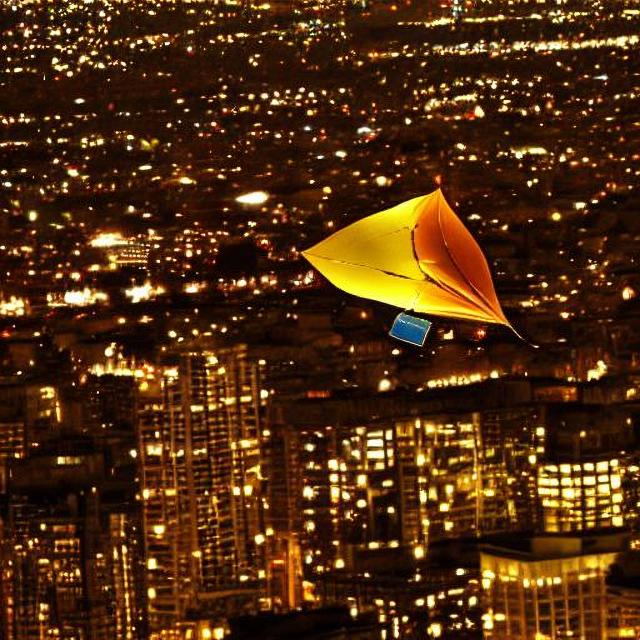floating object: (298, 183, 524, 339)
